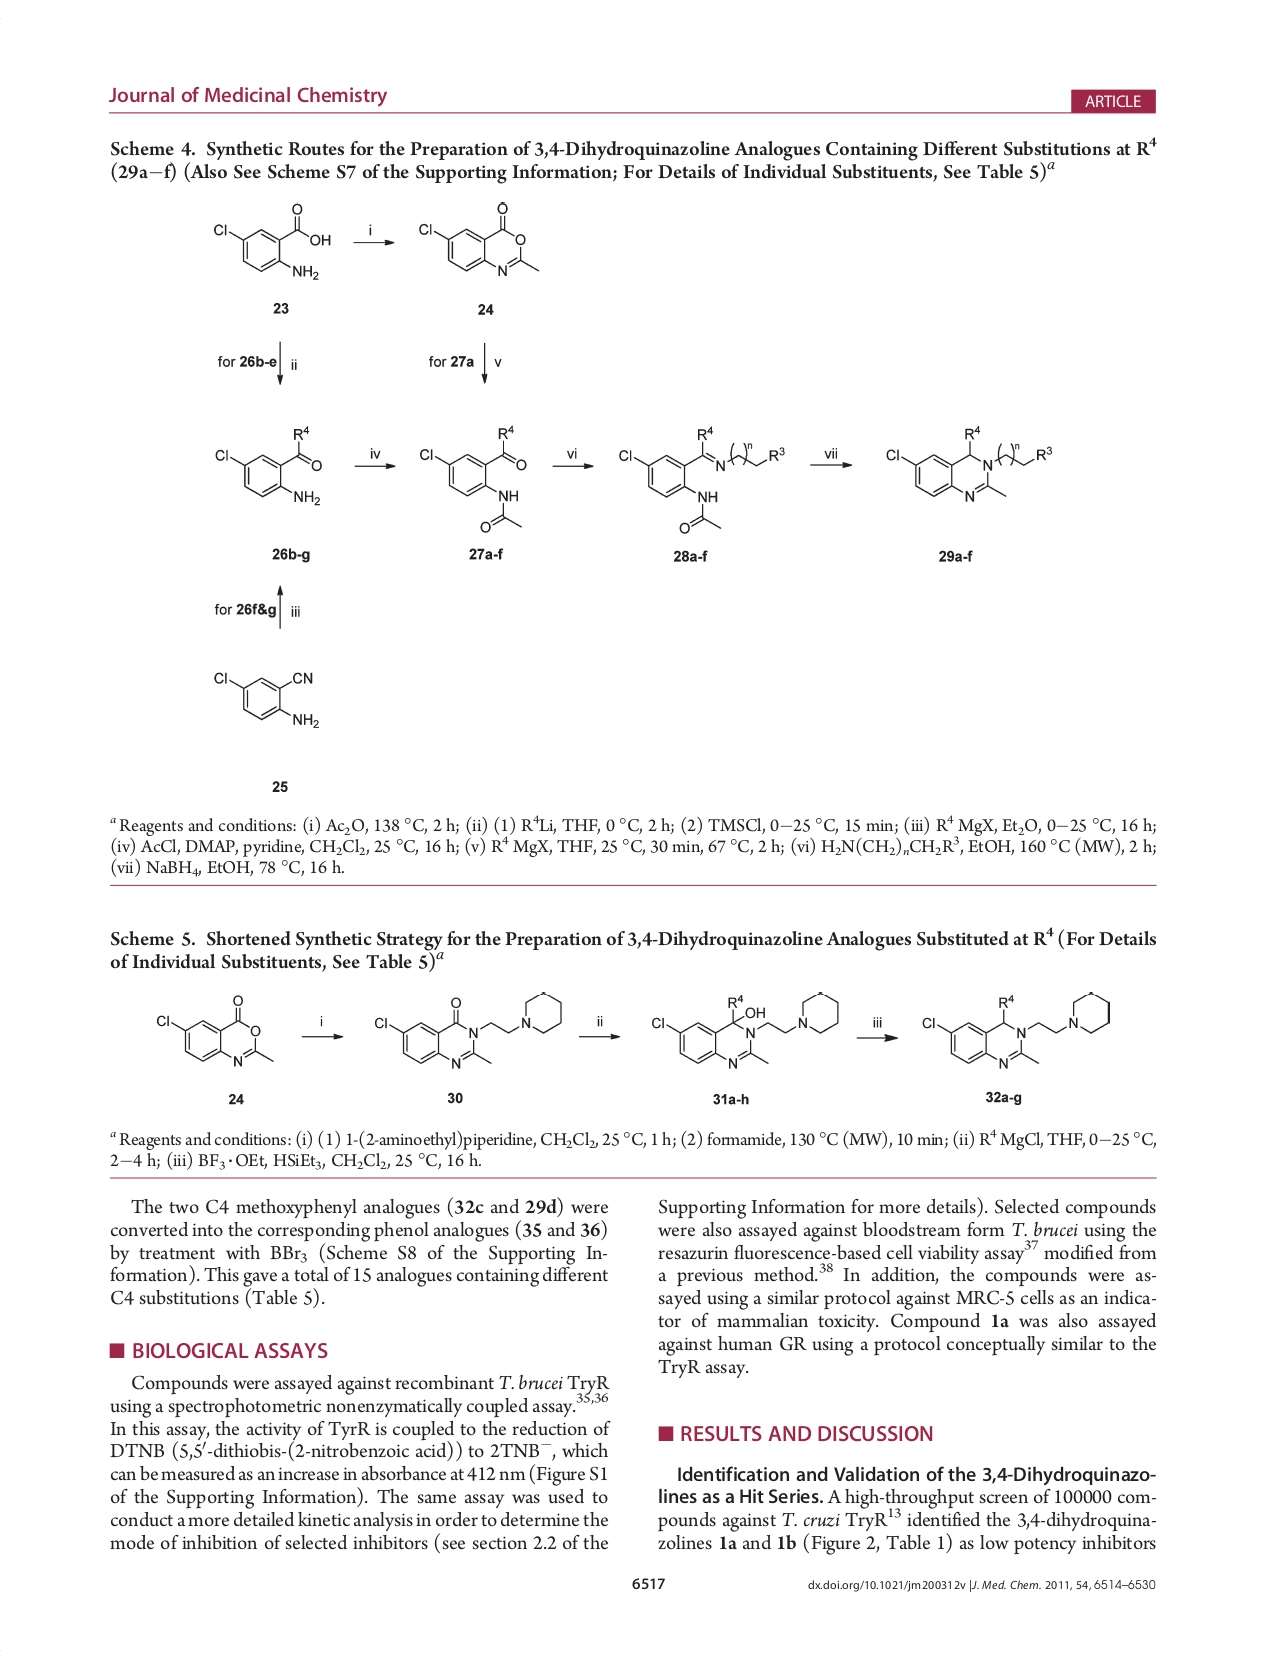exist_molecular: (618, 422, 789, 535), (918, 989, 1114, 1071), (371, 989, 564, 1071), (650, 989, 840, 1071), (884, 424, 1055, 504), (418, 422, 529, 535), (415, 199, 544, 282), (210, 199, 336, 282), (210, 420, 326, 509), (154, 993, 277, 1069), (207, 664, 322, 730)
